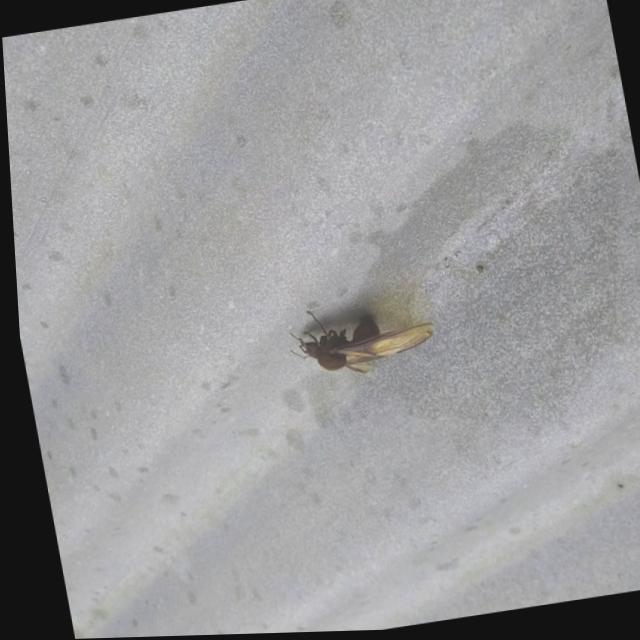Alive-Female-Alate: (278, 292, 438, 386)
